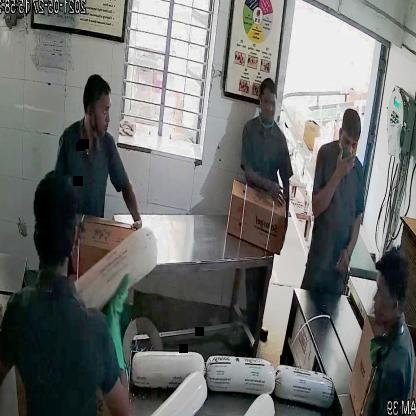no_goggles: (85, 102, 115, 124), (338, 133, 363, 154), (256, 94, 280, 111)
